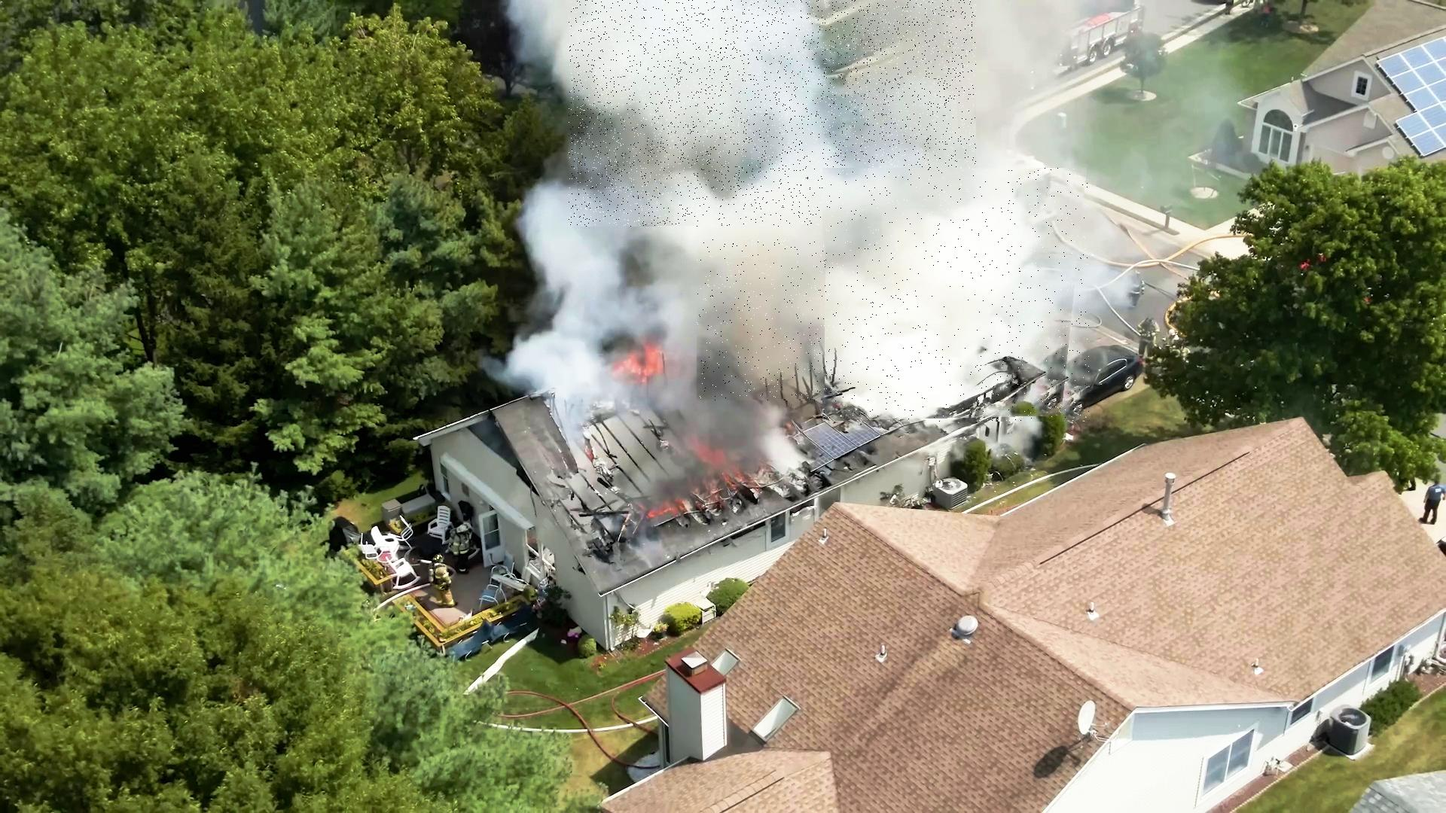smoke: (569, 0, 976, 227), (823, 168, 1090, 422), (697, 240, 828, 401)
